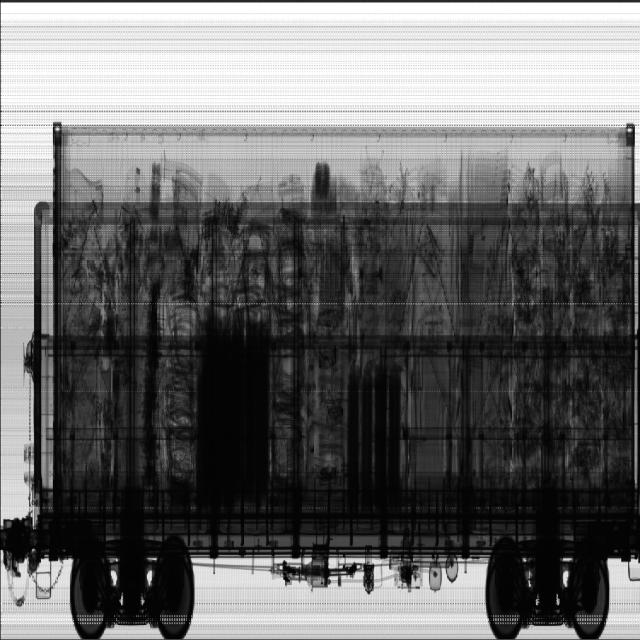auto parts: (193, 307, 269, 505)
